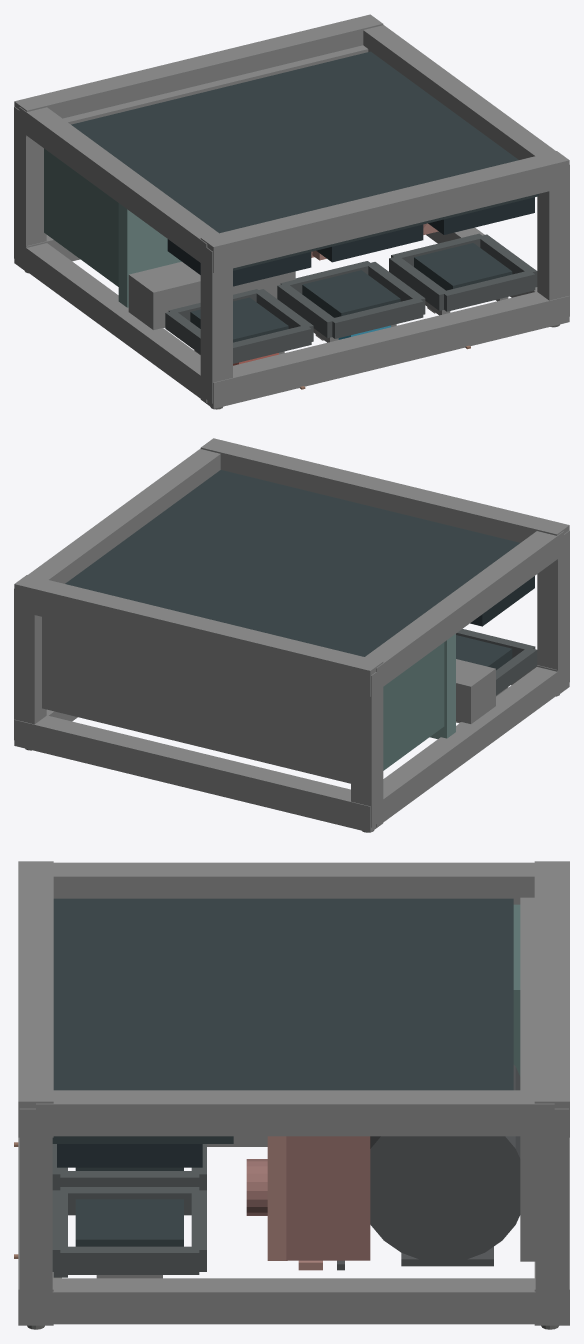
Rendered from Gerador_UniDoom_2_fusiveis.glb.
3 views of the same model, one above another, from view 1: azimuth 30°, elevation 25°; view 2: azimuth 150°, elevation 25°; view 3: azimuth 270°, elevation 25° (orthographic). The views are drawn at different scales.
Visible parts, largest first — view 1: back_wall, top_long_beam_back, top_long_beam_front, bottom_long_beam_back, steel_upright_left_back, steel_upright_left_front, engine_lower_base, steel_upright_right_back, control_console_outer, top_depth_beam_left, top_depth_beam_right, bottom_depth_beam_left (+21 smaller); view 2: back_wall, base_floor, bottom_long_beam_back, bottom_long_beam_front, top_long_beam_back, steel_upright_left_back, steel_upright_left_front, steel_upright_right_back, engine_lower_base, bottom_depth_beam_left, top_depth_beam_left, bottom_depth_beam_right (+6 smaller); view 3: back_wall, steel_upright_right_back, steel_upright_right_front, steel_upright_left_back, motor_rotor, tank_bottom, top_long_beam_back, bottom_long_beam_back, top_depth_beam_right, bottom_depth_beam_right, socket_3_inner_rear, base_floor (+11 smaller).
Boxes of the visible parts, x1,y1,x2,y2 form: back_wall: (71,51,518,233); top_long_beam_back: (200,151,569,272); top_long_beam_front: (200,291,569,408); bottom_long_beam_back: (14,14,383,136); steel_upright_left_back: (19,107,218,266); steel_upright_left_front: (19,243,207,402); engine_lower_base: (44,148,118,286); steel_upright_right_back: (363,25,555,159); control_console_outer: (128,261,295,330); top_depth_beam_left: (200,247,232,403); top_depth_beam_right: (537,165,569,316); bottom_depth_beam_left: (14,106,46,261); back_wall: (65,470,519,656); base_floor: (42,617,350,783); bottom_long_beam_back: (14,575,383,696); bottom_long_beam_front: (14,715,382,832); top_long_beam_back: (200,438,569,560); steel_upright_left_back: (365,531,563,686); steel_upright_left_front: (376,667,563,827); steel_upright_right_back: (28,448,220,583); engine_lower_base: (383,642,444,770); bottom_depth_beam_left: (351,667,383,827); top_depth_beam_left: (537,530,569,690); bottom_depth_beam_right: (14,589,46,739); back_wall: (53,898,513,1090); steel_upright_right_back: (36,1090,554,1136); steel_upright_right_front: (36,1278,554,1324); steel_upright_left_back: (53,862,534,904); motor_rotor: (370,1065,520,1262); tank_bottom: (286,1136,370,1260); top_long_beam_back: (18,861,53,1137); bottom_long_beam_back: (534,861,569,1137); top_depth_beam_right: (19,1108,52,1319); bottom_depth_beam_right: (535,1108,568,1319); socket_3_inner_rear: (75,1199,183,1246); base_floor: (520,897,535,1261).
Size of the model in its own units: 2.59 by 1.16 by 2.52.
